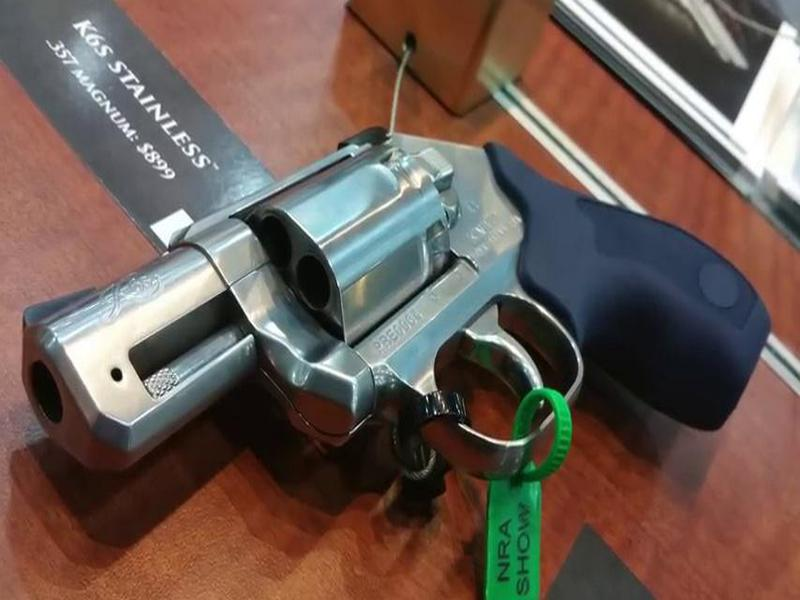Revolver: (34, 129, 734, 507)
